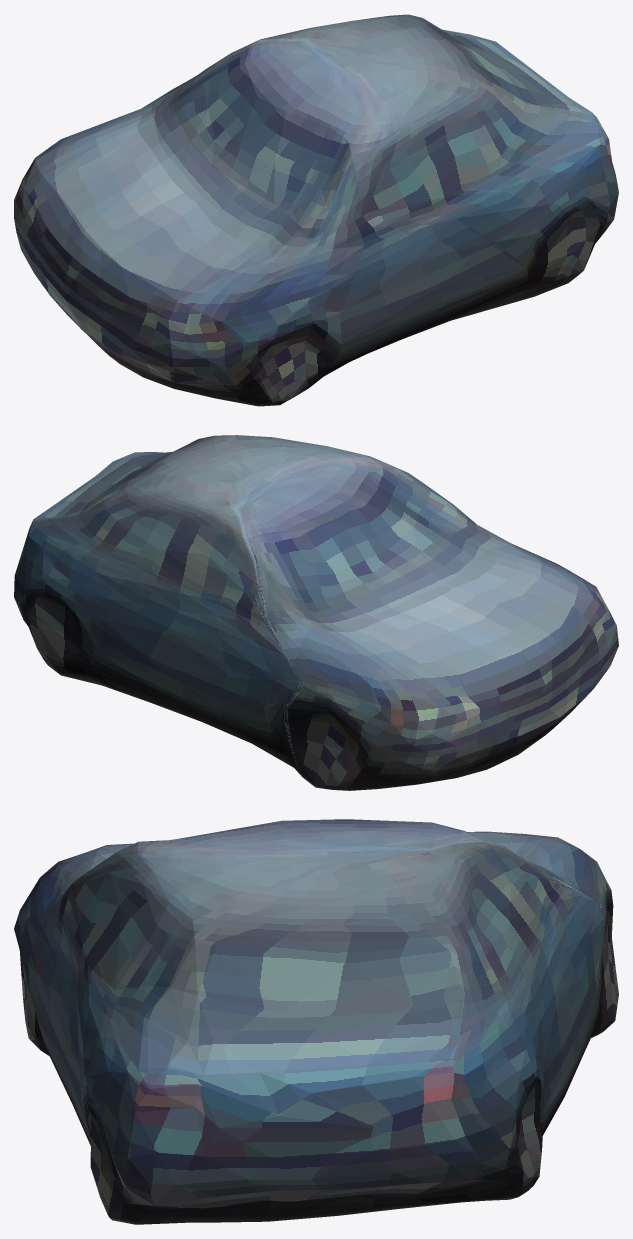
Rendered from video3_268.obj.
3 views of the same model, one above another, from view 1: azimuth 30°, elevation 25°; view 2: azimuth 150°, elevation 25°; view 3: azimuth 270°, elevation 25° (orthographic). The views are drawn at different scales.
Bounding box in the file's own units: 1 × 0.4446 × 0.7607.
Materials: 1 (1 with a texture image).
